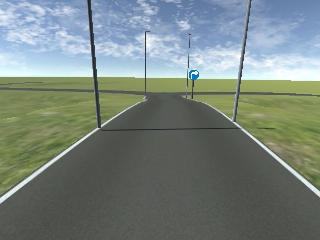right: (187, 70, 200, 79)
